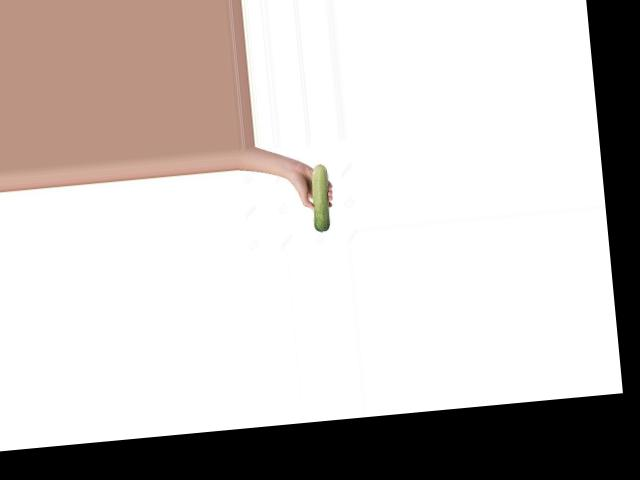cucumber: (307, 163, 331, 233)
